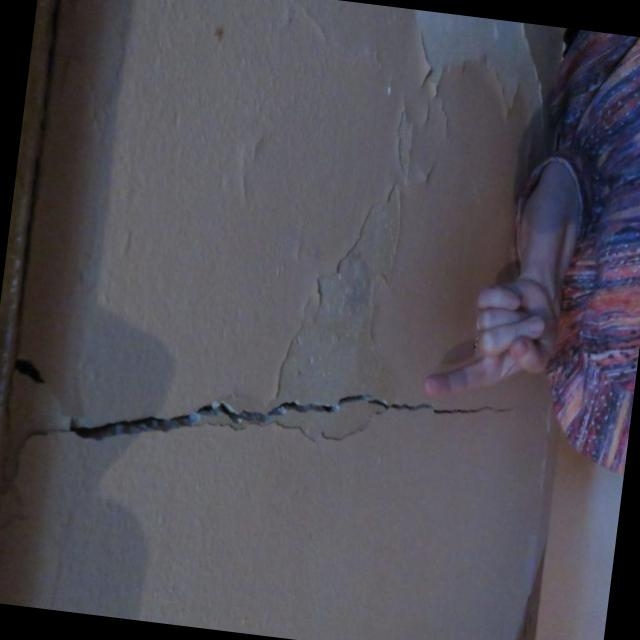crack: (0, 356, 501, 526)
